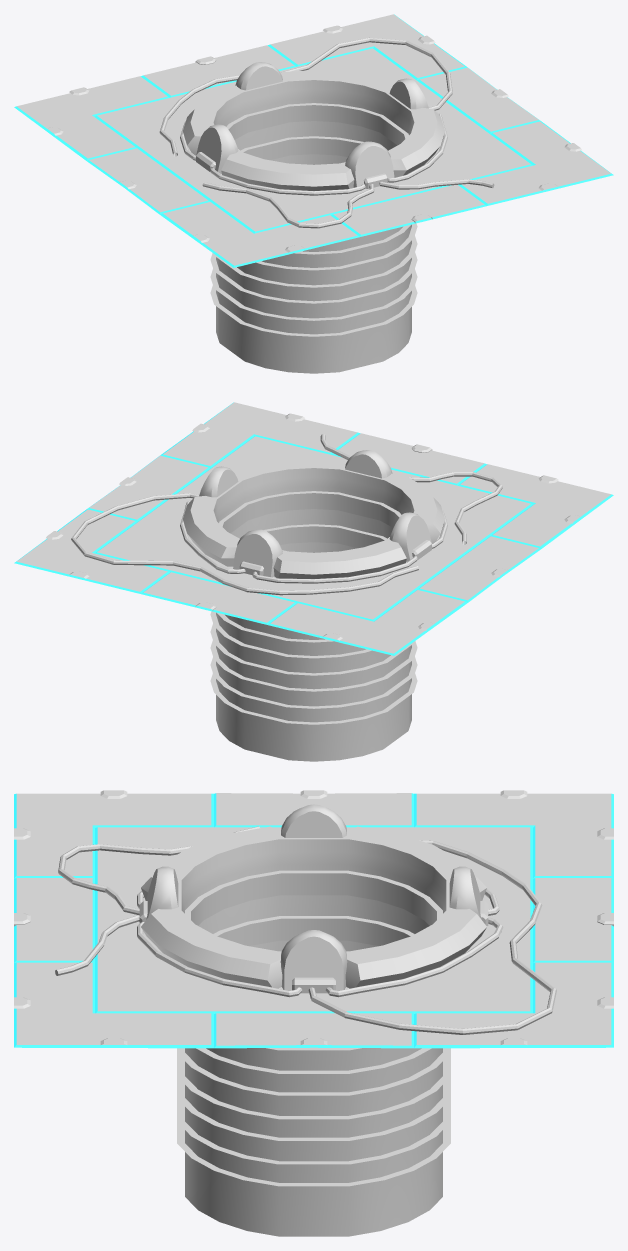
File: RocketBase.fbx
The picture shows the model from 3 angles, top to bottom: view 1: azimuth 30°, elevation 25°; view 2: azimuth 150°, elevation 25°; view 3: azimuth 270°, elevation 25°; orthographic projection. The views are drawn at different scales.
Visible parts, largest first — view 1: pCube19.001; view 2: pCube19.001; view 3: pCube19.001.
Part boxes in pixels (x1,y1,x2,y2): pCube19.001: [14, 14, 613, 373]; pCube19.001: [14, 402, 613, 761]; pCube19.001: [14, 790, 613, 1236].
Bounding box in the file's own units: 18.08 × 18 × 10.34.
